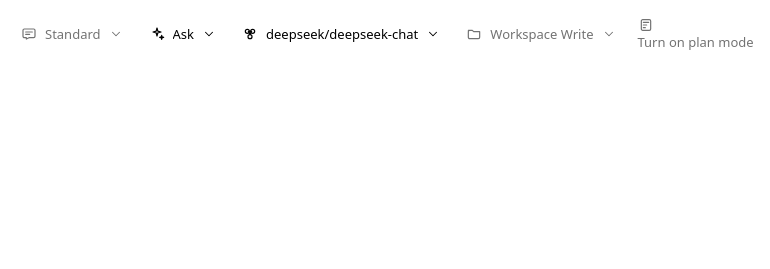
SessionControls › disables the workflow Plan profile when the command is not advertised
This screenshot has width=770, height=269.
Click the button with aria-label "Workflow: Ask".
click(182, 34)  # box [140,20,225,49]
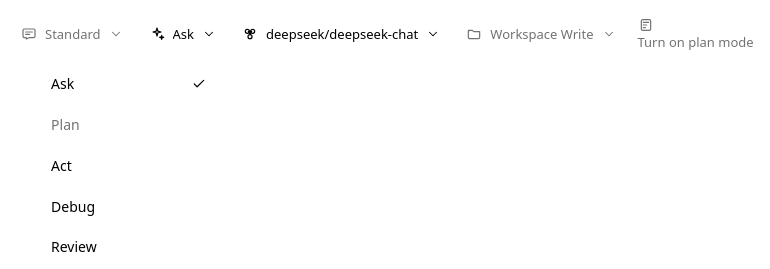
Check: the option "Plan" is disabled, box [42,107,216,144]
